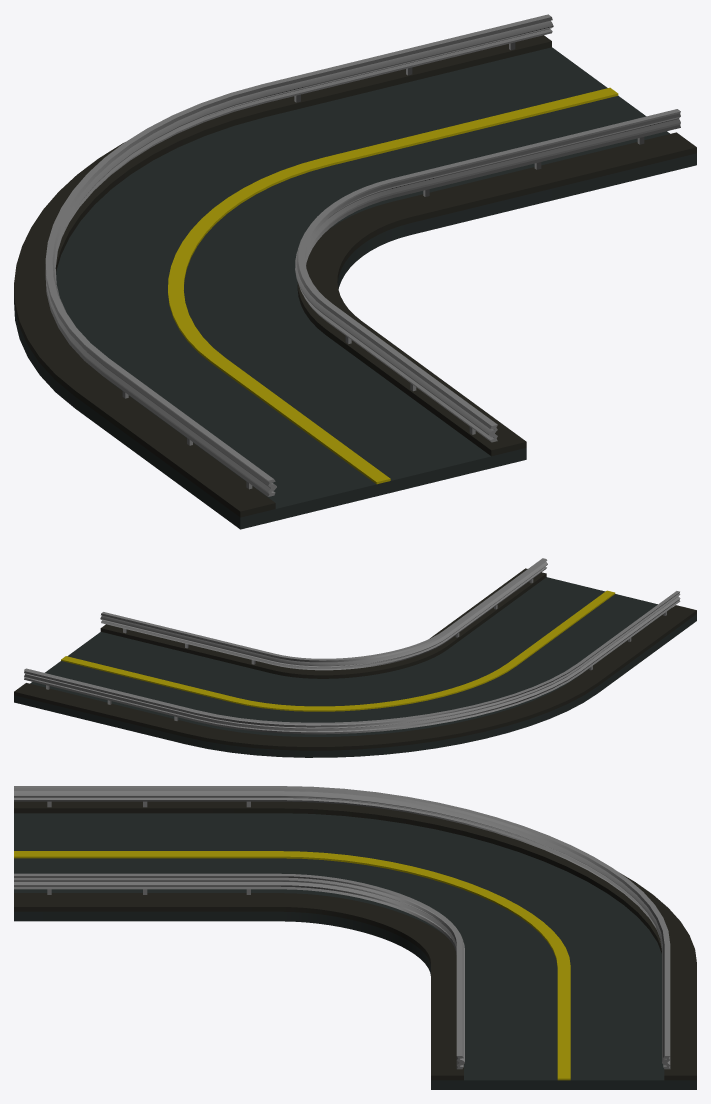
File: Curva(1).fbx
The picture shows the model from 3 angles, top to bottom: view 1: azimuth 30°, elevation 25°; view 2: azimuth 150°, elevation 25°; view 3: azimuth 270°, elevation 25°; orthographic projection. The views are drawn at different scales.
Visible parts, largest first — view 1: Curva, MetalIZQ, MetalDER; view 2: Curva, MetalIZQ, MetalDER; view 3: Curva, MetalIZQ, MetalDER.
Boxes of the visible parts, left/top/right/bottom form: Curva: left=14, top=35, right=696, bottom=529; MetalIZQ: left=45, top=14, right=553, bottom=496; MetalDER: left=295, top=109, right=680, bottom=442; Curva: left=14, top=568, right=696, bottom=757; MetalIZQ: left=24, top=591, right=680, bottom=734; MetalDER: left=100, top=558, right=547, bottom=670; Curva: left=14, top=801, right=696, bottom=1089; MetalIZQ: left=14, top=786, right=670, bottom=1069; MetalDER: left=14, top=873, right=464, bottom=1069.
Bounding box in the file's own units: 12501 × 702 × 12841.
